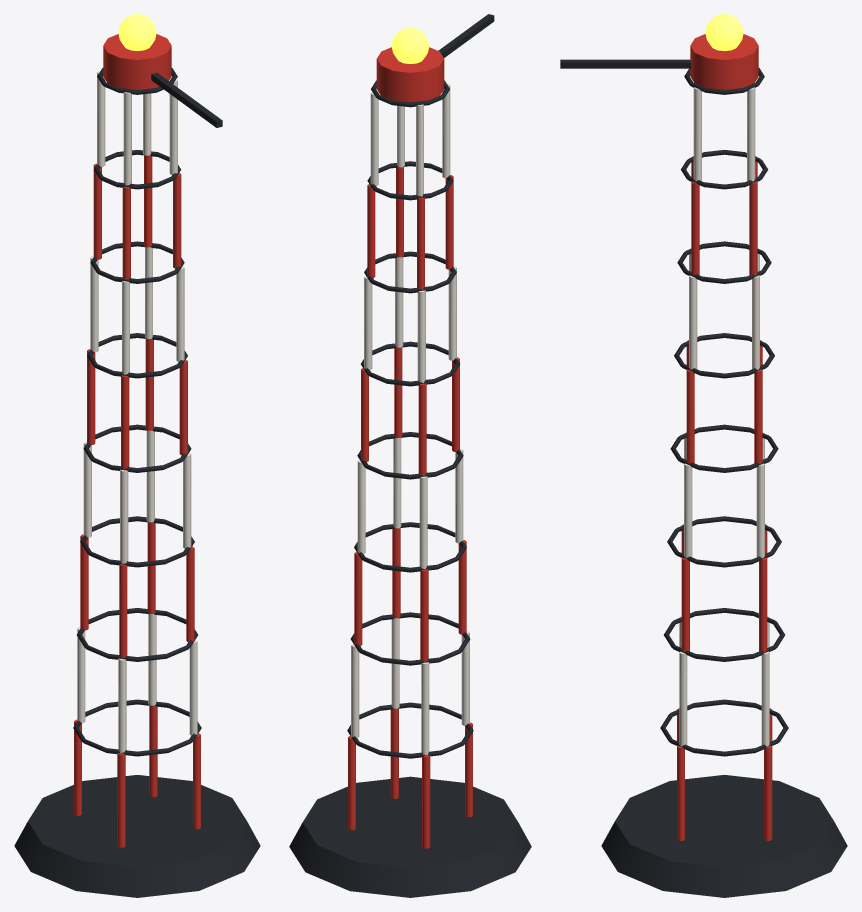
Rendered from blimp-mast.glb.
The picture shows the model from 3 angles, left to right: view 1: azimuth 30°, elevation 25°; view 2: azimuth 150°, elevation 25°; view 3: azimuth 270°, elevation 25°; orthographic projection.
Visible parts, largest first — view 1: mast dark, mast red, mast white, mast lamp; view 2: mast dark, mast red, mast white, mast lamp; view 3: mast dark, mast red, mast white, mast lamp.
Boxes of the visible parts, x1,y1,x2,y2 form: mast dark: (14, 68, 260, 897); mast red: (74, 34, 200, 847); mast white: (77, 71, 197, 753); mast lamp: (118, 14, 156, 50); mast dark: (289, 14, 531, 897); mast red: (348, 47, 472, 848); mast white: (351, 83, 469, 755); mast lamp: (391, 27, 429, 63); mast dark: (560, 59, 847, 897); mast red: (677, 34, 772, 840); mast white: (679, 82, 769, 746); mast lamp: (705, 14, 743, 50).
Bounding box in the file's own units: 3.6 × 13.38 × 4.2.
